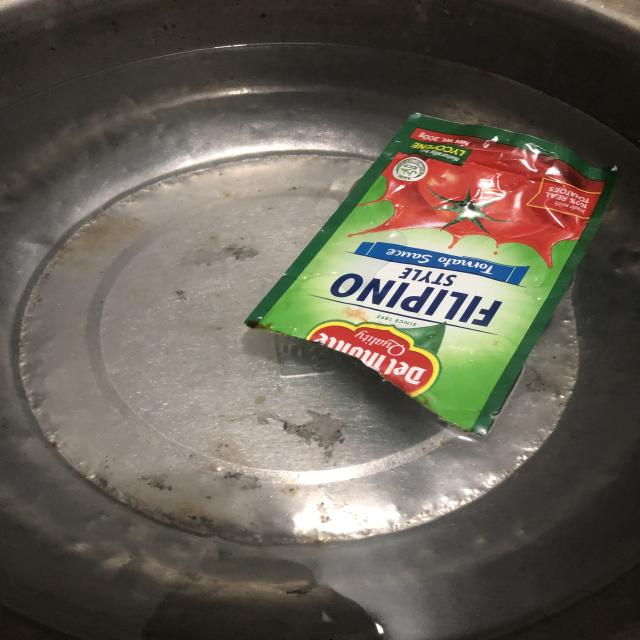Plastic Pouch: (256, 105, 618, 429)
